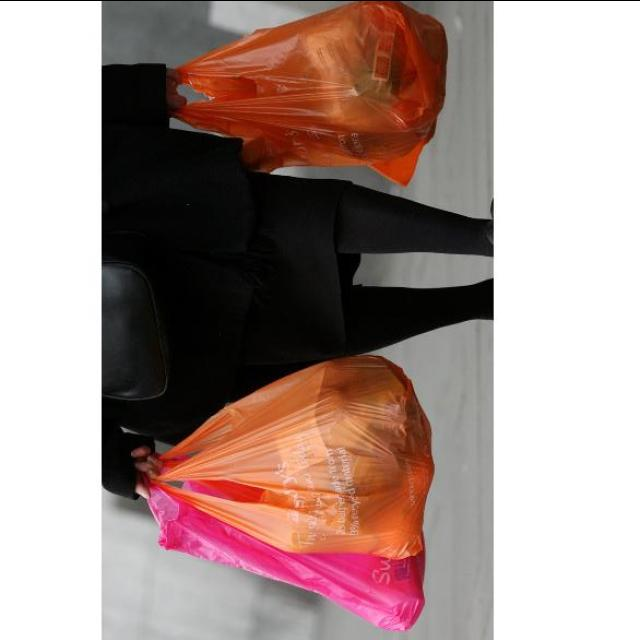plastik: (156, 355, 433, 558), (176, 0, 447, 184), (150, 486, 423, 629)
